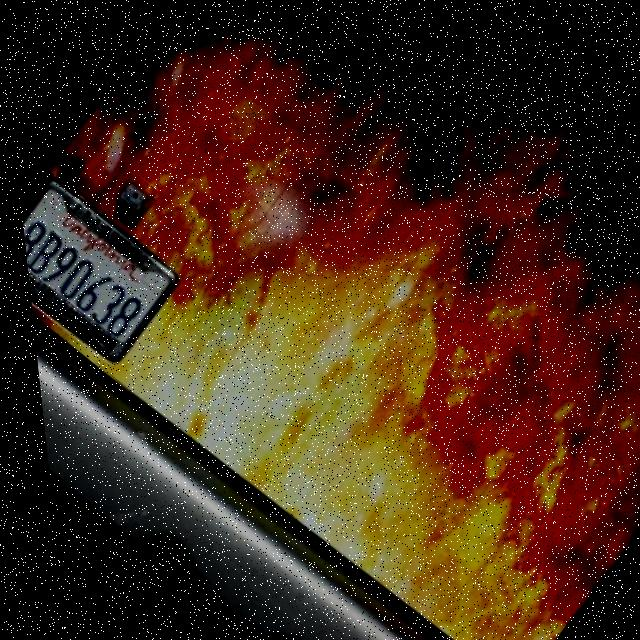license_plate: (13, 167, 185, 370)
